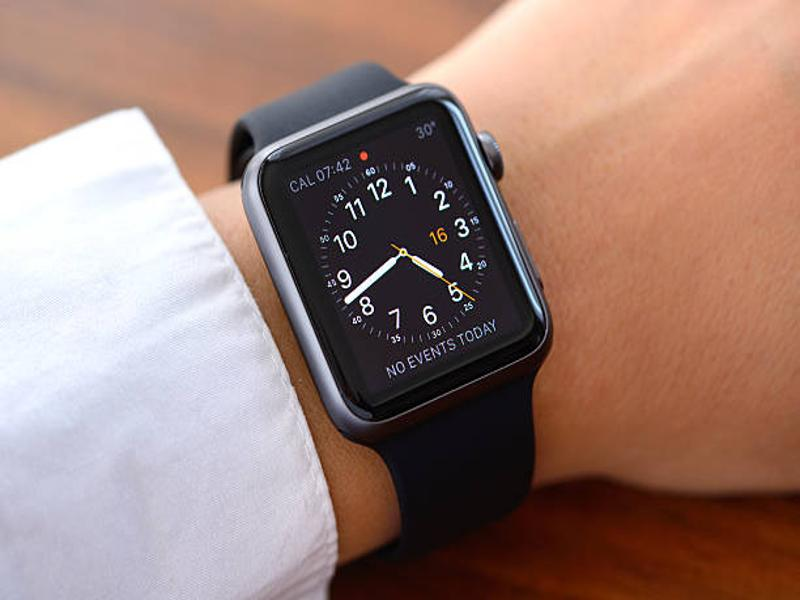watch: (226, 53, 556, 555)
